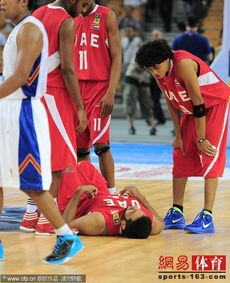falling: (43, 157, 166, 242)
